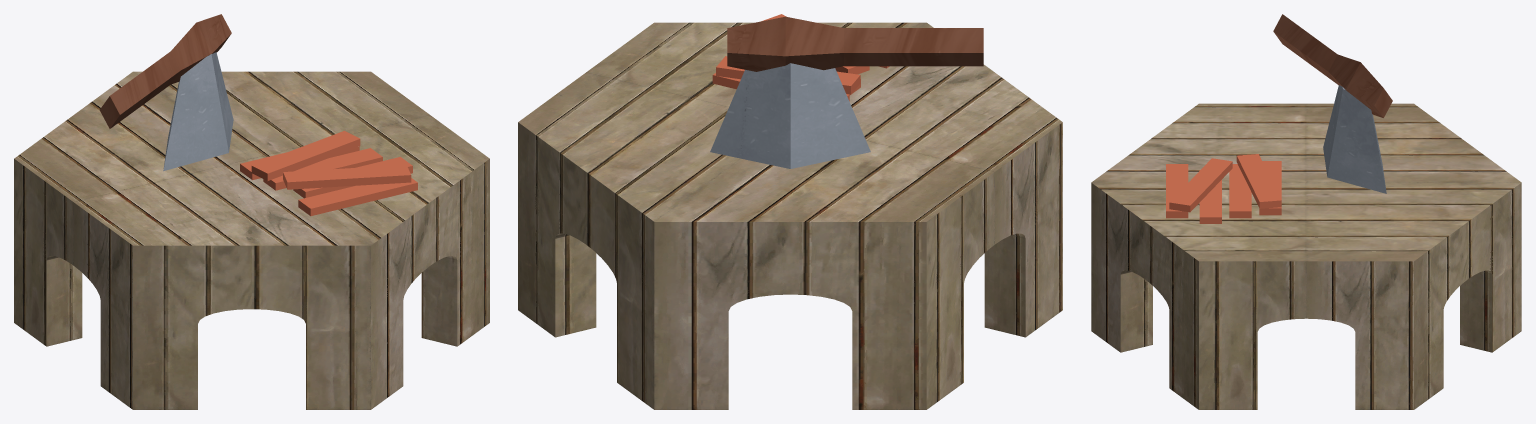
Rendered from ChopperTable.fbx.
The picture shows the model from 3 angles, left to right: view 1: azimuth 30°, elevation 25°; view 2: azimuth 150°, elevation 25°; view 3: azimuth 270°, elevation 25°; orthographic projection. The views are drawn at different scales.
Parts seen in each view (by area): view 1: mergedBlocks; view 2: mergedBlocks; view 3: mergedBlocks.
Boxes of the visible parts, x1,y1,x2,y2 form: mergedBlocks: [14, 14, 489, 409]; mergedBlocks: [518, 14, 1062, 409]; mergedBlocks: [1091, 14, 1521, 409].
Size of the model in its own units: 10 by 7.62 by 11.55.
5 materials, 3 textured.
